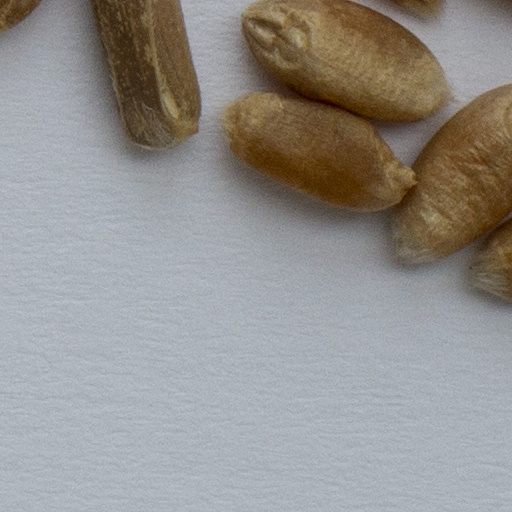Peel-poly: (95, 0, 200, 149)
